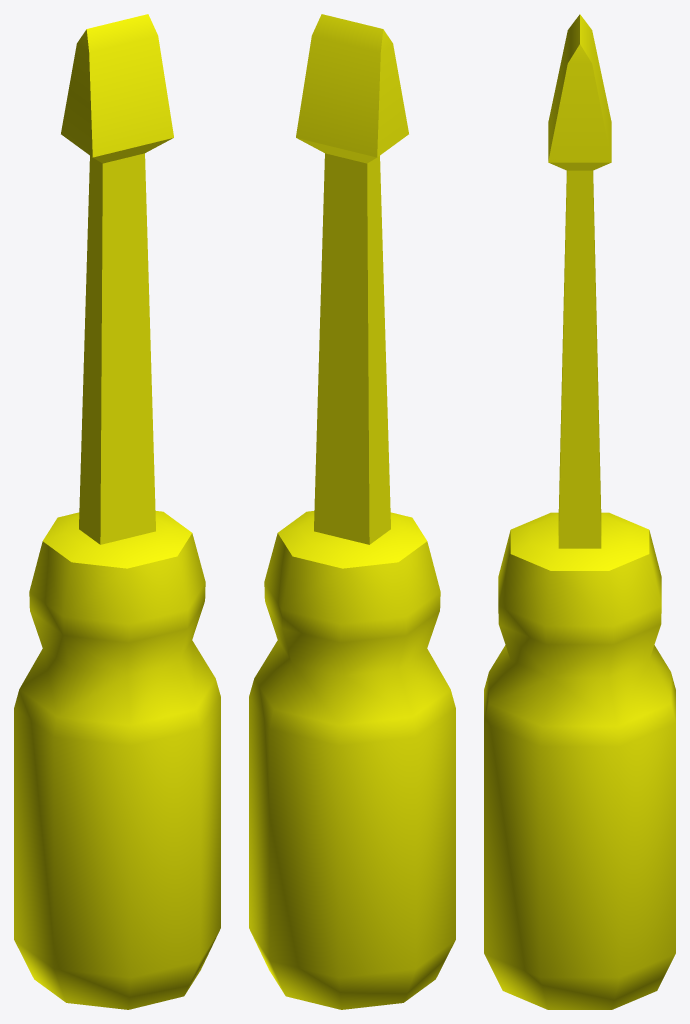
File: kaykit-screwdriver-a-long-color.glb
The picture shows the model from 3 angles, left to right: view 1: azimuth 30°, elevation 25°; view 2: azimuth 150°, elevation 25°; view 3: azimuth 270°, elevation 25°; orthographic projection.
Parts seen in each view (by area): view 1: screwdriver_A_long_color; view 2: screwdriver_A_long_color; view 3: screwdriver_A_long_color.
Part boxes in pixels (left/top/right/bottom): screwdriver_A_long_color: left=14, top=14, right=220, bottom=1009; screwdriver_A_long_color: left=249, top=14, right=455, bottom=1009; screwdriver_A_long_color: left=484, top=14, right=675, bottom=1009.
Size of the model in its own units: 0.1513 by 0.8434 by 0.1513.
